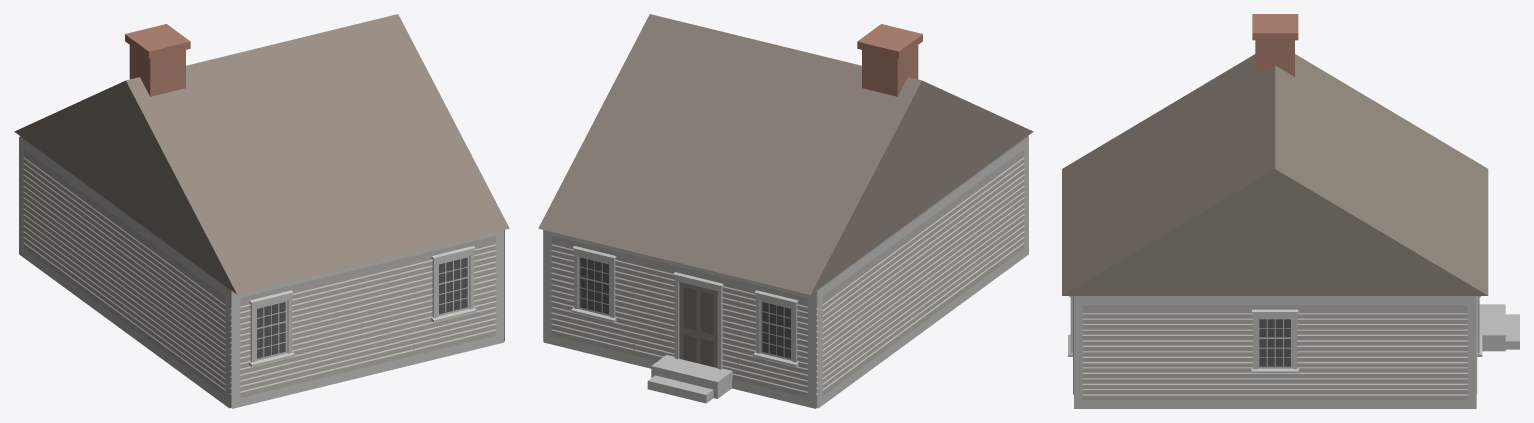
Rendered from recon_1835_blk_randolph_wells_d4_04__inferred_1835.glb.
The picture shows the model from 3 angles, left to right: view 1: azimuth 30°, elevation 25°; view 2: azimuth 150°, elevation 25°; view 3: azimuth 270°, elevation 25°; orthographic projection. The views are drawn at different scales.
Parts seen in each view (by area): view 1: recon_1835_blk_randolph_wells_d4_04__inferred_1835; view 2: recon_1835_blk_randolph_wells_d4_04__inferred_1835; view 3: recon_1835_blk_randolph_wells_d4_04__inferred_1835.
Boxes of the visible parts, box(x1,y1,x2,y2) form: recon_1835_blk_randolph_wells_d4_04__inferred_1835: box(14, 14, 509, 408); recon_1835_blk_randolph_wells_d4_04__inferred_1835: box(538, 14, 1033, 408); recon_1835_blk_randolph_wells_d4_04__inferred_1835: box(1062, 14, 1519, 408).
Bounding box in the file's own units: 6.54 × 6.4 × 9.73.
